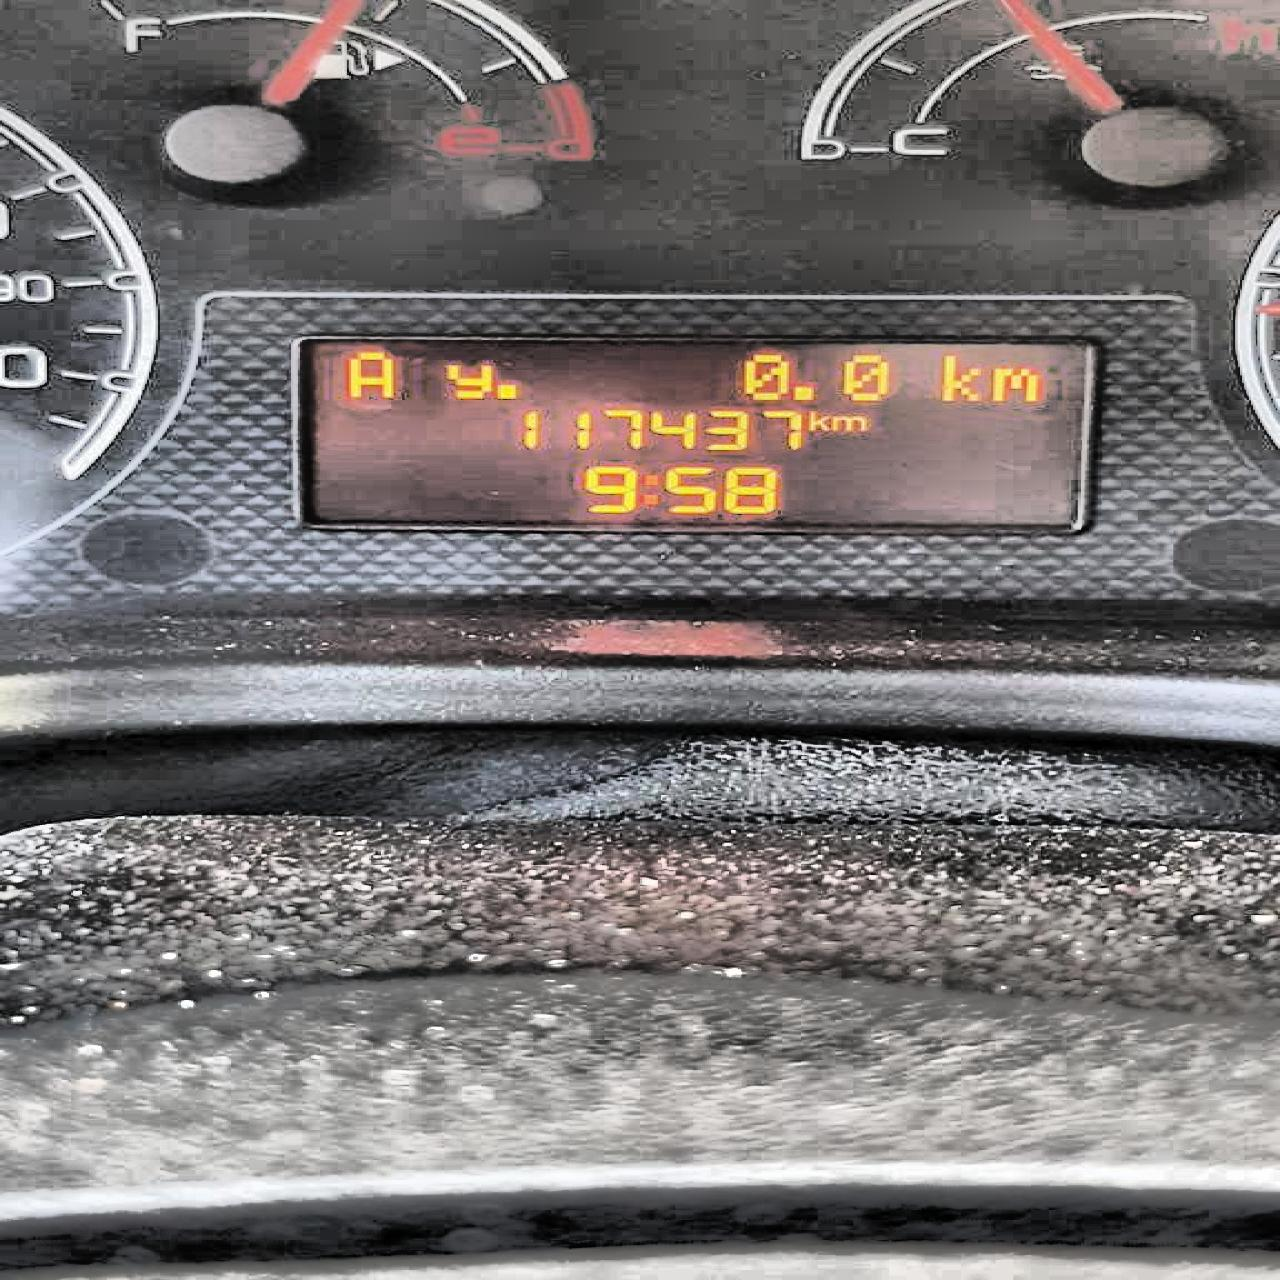-: (493, 381, 518, 400), (791, 383, 816, 401)
0: (737, 350, 791, 401), (836, 352, 888, 402)
1: (513, 406, 543, 450), (565, 408, 593, 450)
3: (697, 408, 751, 451)
4: (645, 409, 695, 450)
5: (662, 464, 717, 515)
7: (595, 406, 642, 450), (756, 406, 802, 450)
8: (720, 465, 778, 515)
9: (578, 464, 635, 515)
X: (342, 349, 396, 399), (935, 348, 982, 402), (440, 360, 493, 400), (987, 366, 1042, 403), (638, 472, 660, 505), (831, 414, 866, 431), (806, 407, 829, 431)
odometer: (285, 333, 1098, 533)
